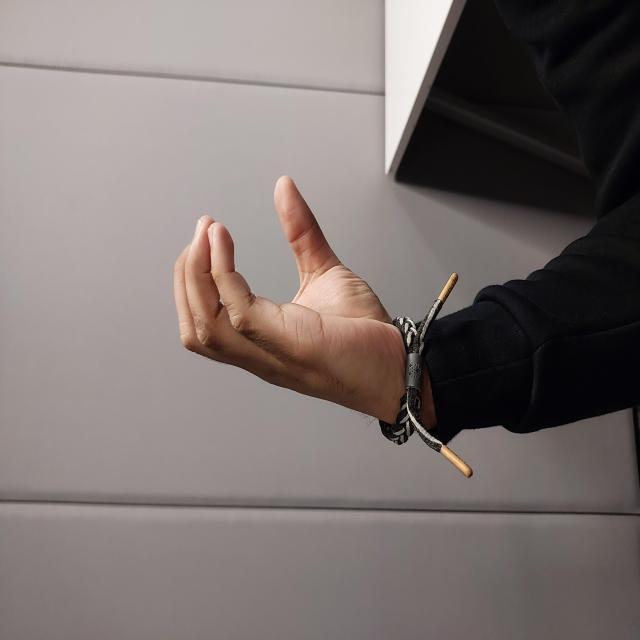C: (217, 172, 467, 408)
